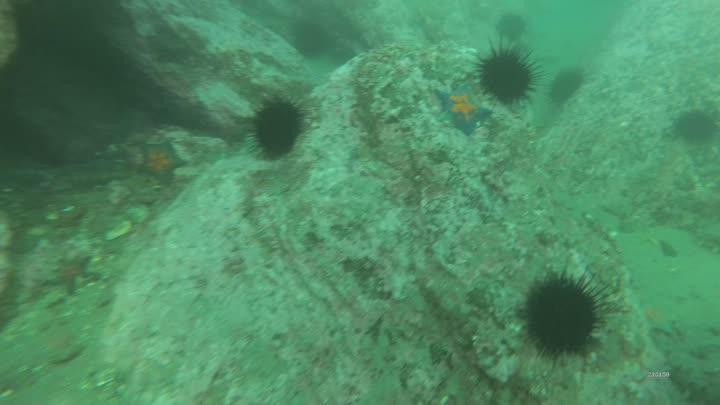urchin: (515, 266, 601, 359), (240, 97, 304, 161), (475, 40, 526, 102), (674, 105, 718, 149), (549, 65, 588, 104), (495, 10, 530, 45)
